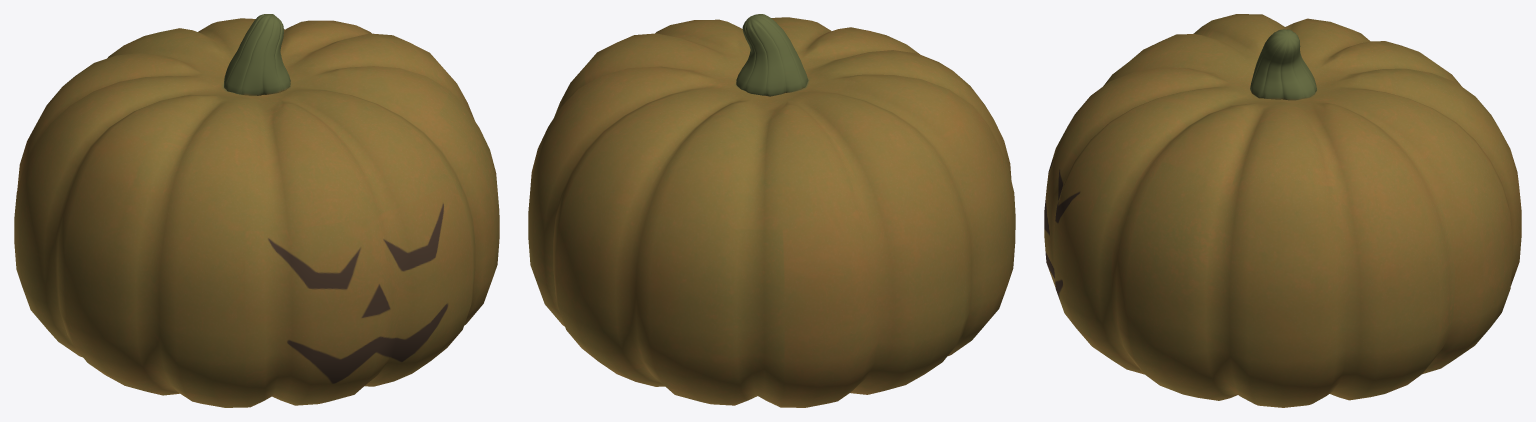
File: ac-pumpkin3.glb
3 renders of one model, left to right at view 1: azimuth 30°, elevation 25°; view 2: azimuth 150°, elevation 25°; view 3: azimuth 270°, elevation 25°, orthographic. The views are drawn at different scales.
Visible parts, largest first — view 1: Object_6; view 2: Object_6; view 3: Object_6.
Part boxes in pixels (x1,y1,x2,y2): Object_6: [14, 14, 499, 407]; Object_6: [528, 14, 1015, 407]; Object_6: [1044, 14, 1521, 407].
Size of the model in its own units: 1.54 by 1.17 by 1.55.
Materials: 1 (1 with a texture image).
